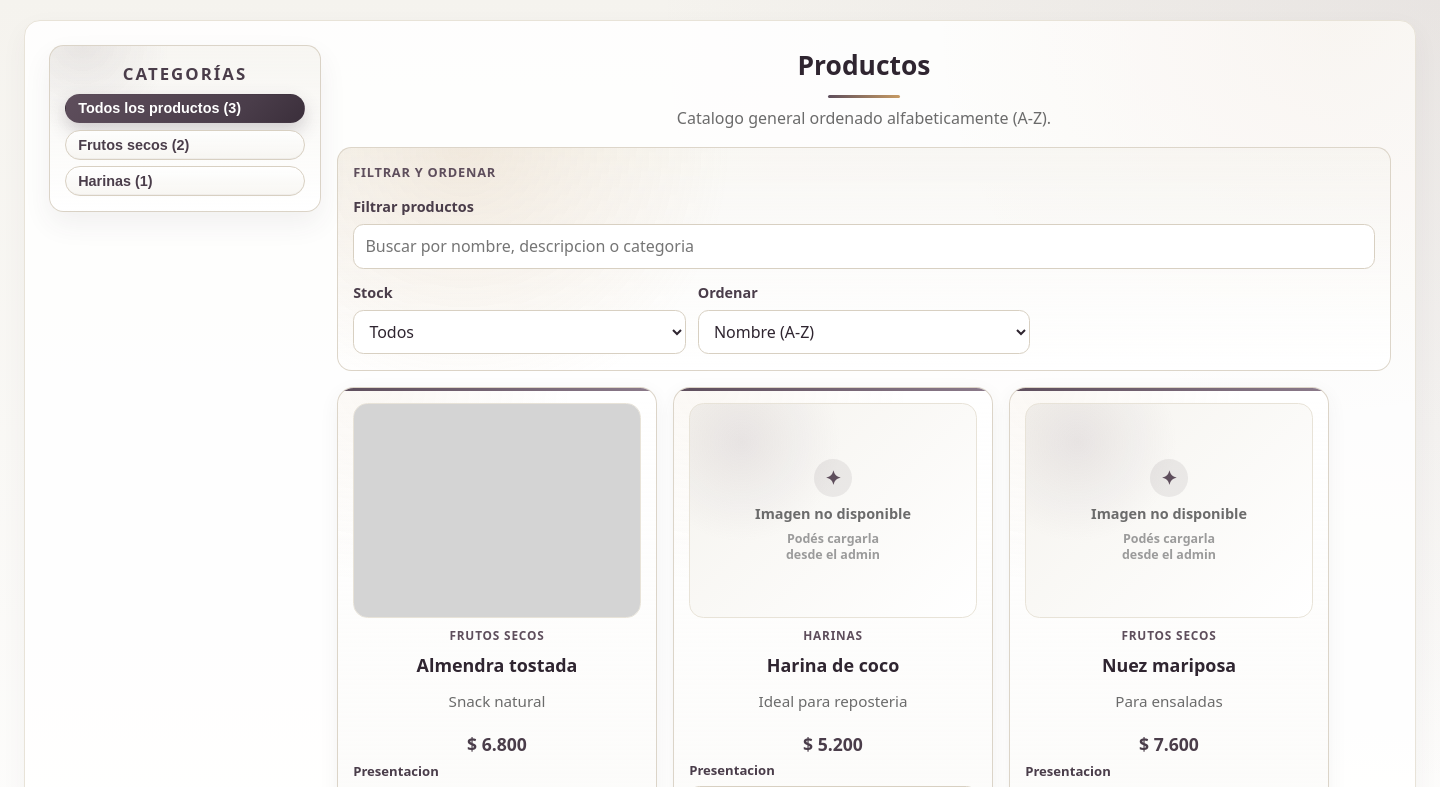
Test: ProductsPage › applies category, stock and sort controls and persists them in URL params
Check: the heading "Almendra tostada" is shown, box [417,653,577,677]
Click the button "Frutos secos (2)".
click(185, 145)  # box [65,130,305,160]
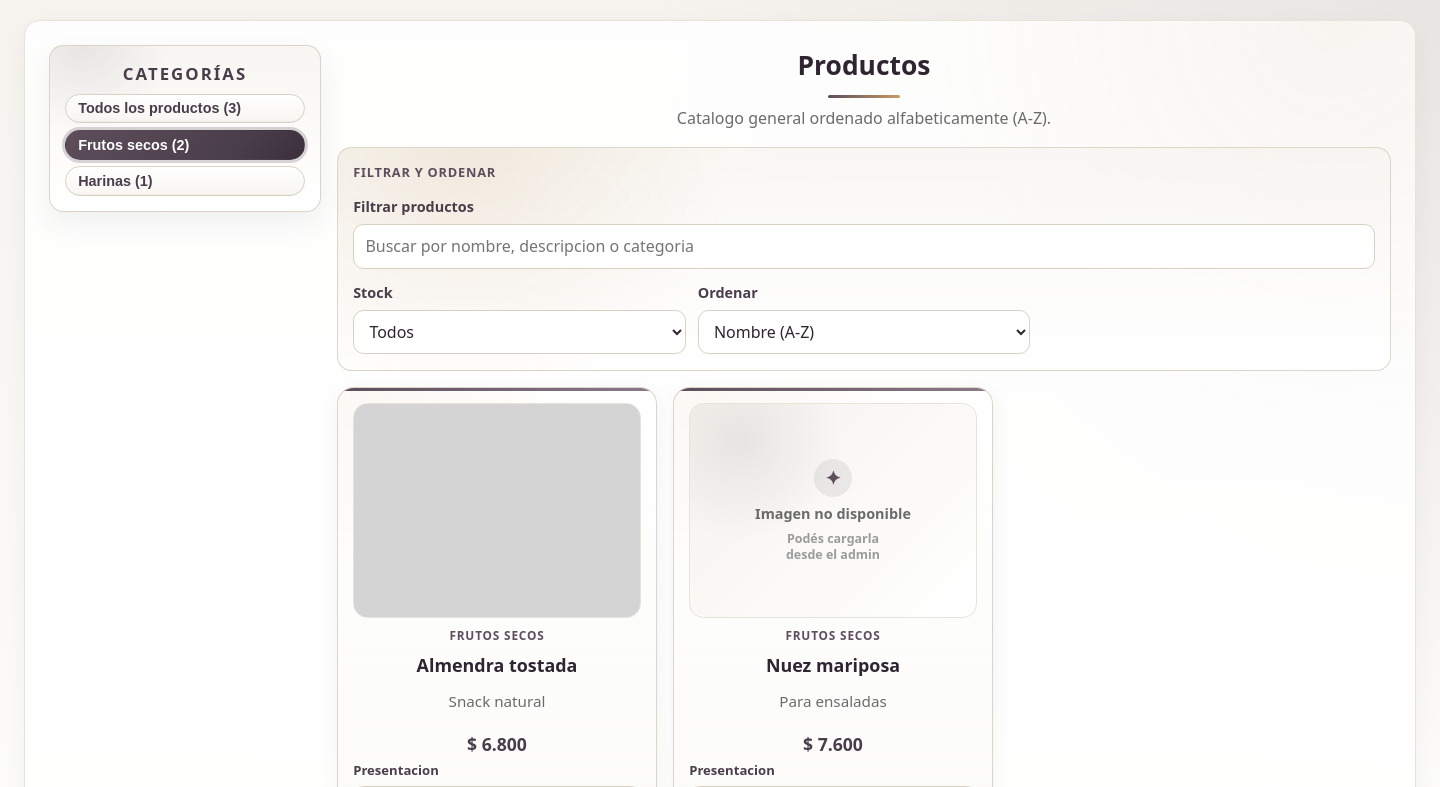
Select "Solo con stock" in the dropdown labelled "Stock" at (519, 332), box [353,310,686,354]
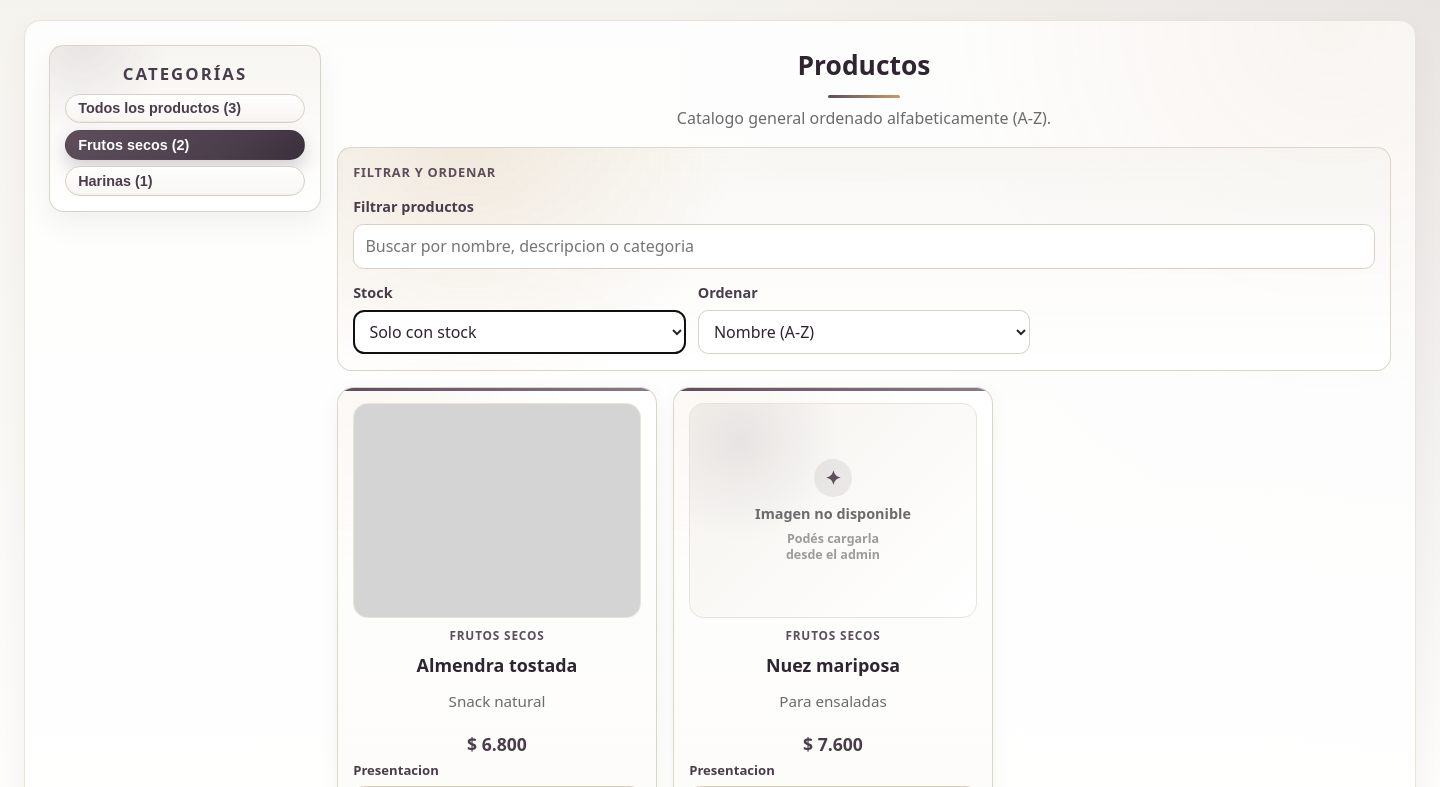
Select "Precio (mayor a menor)" in the dropdown labelled "Ordenar" at (864, 332), box [698,310,1030,354]
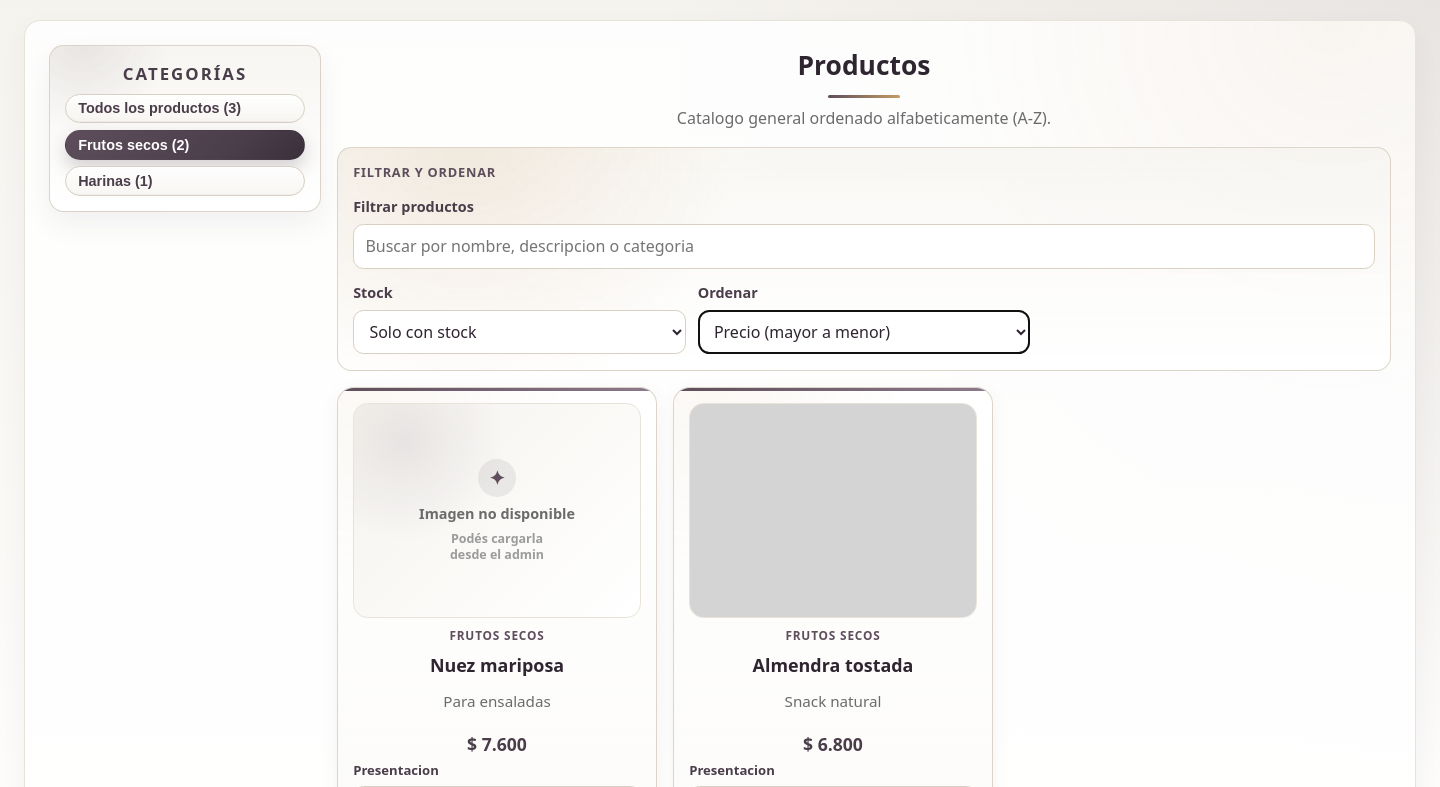
Check: the heading "Harina de coco" is not shown
Check: the headings read "Nuez mariposa", "Almendra tostada", in this order, box [430,653,564,677]; [753,653,913,677]
